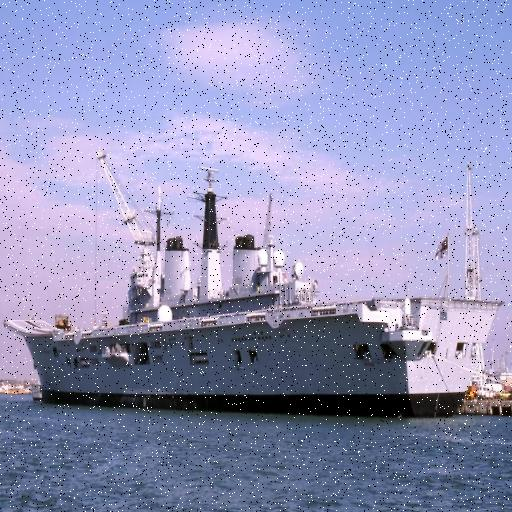Portanaves: (3, 185, 512, 425)
